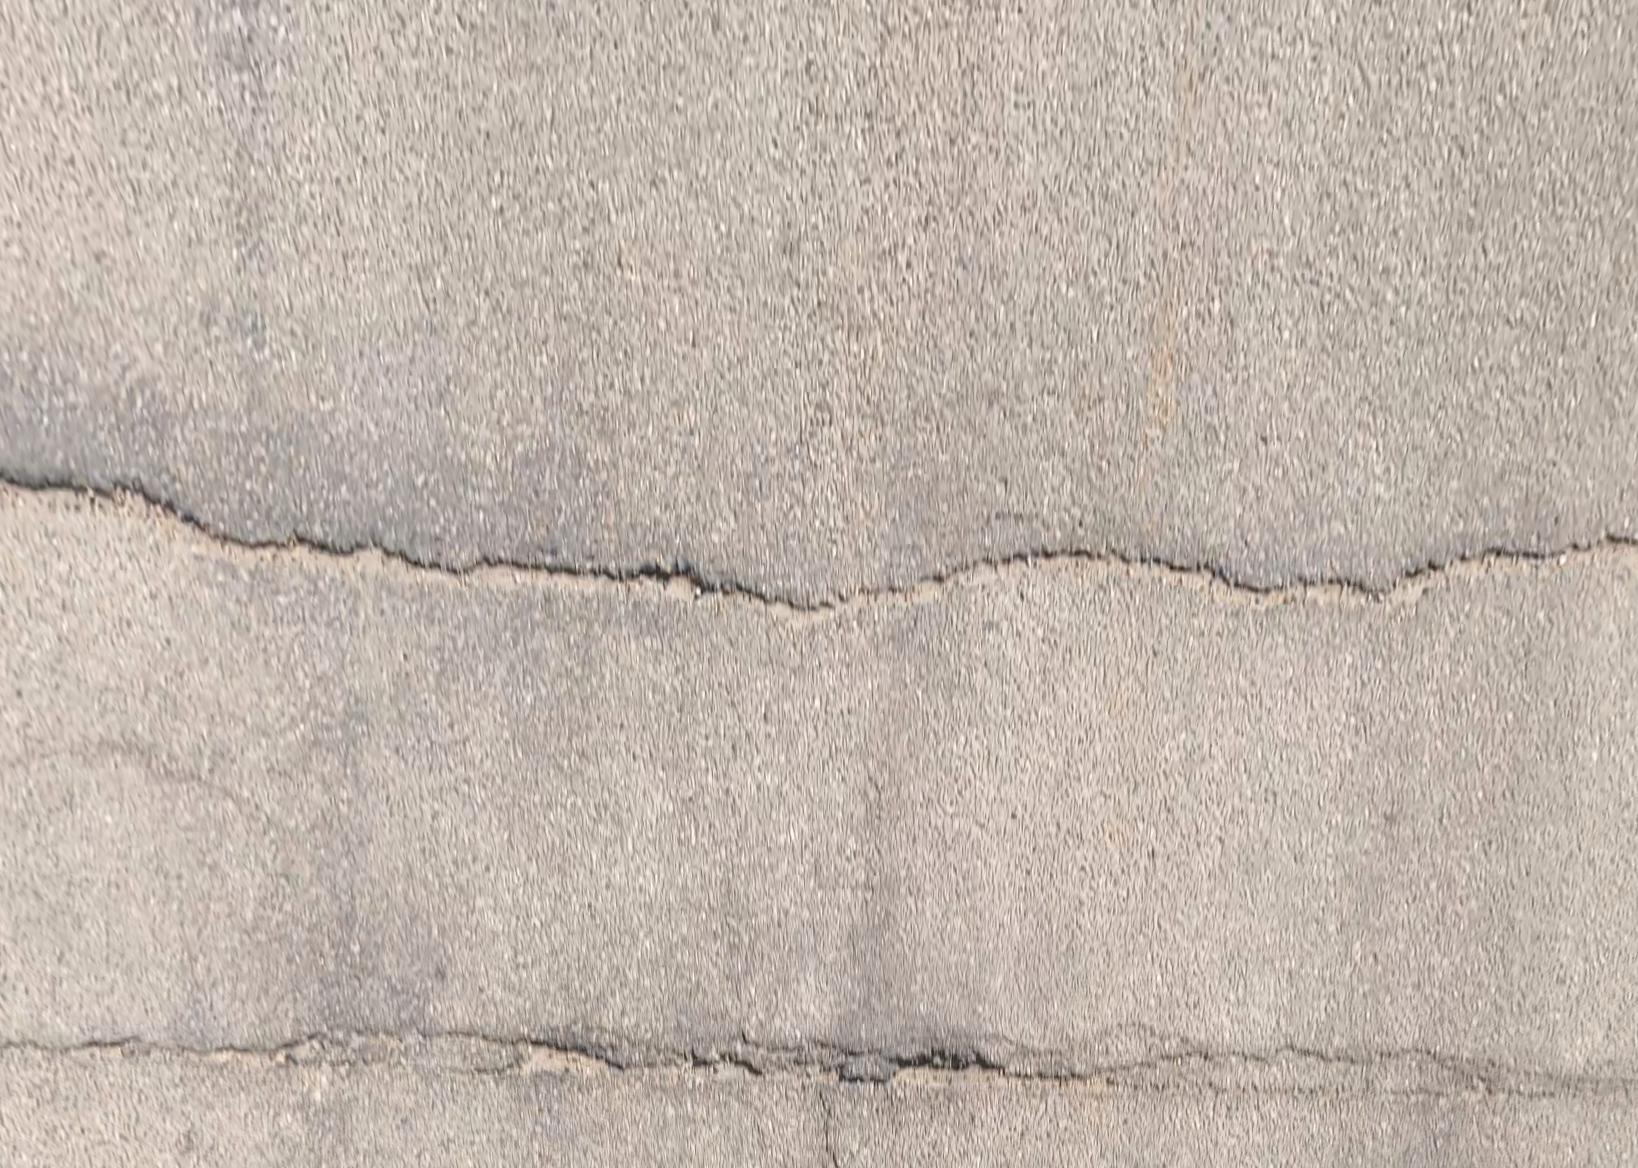pothole: (882, 1049, 1011, 1086), (503, 1040, 609, 1076), (680, 1050, 762, 1082)
